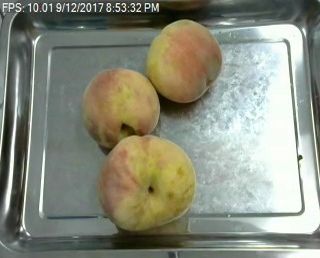Peach: (100, 135, 196, 231), (146, 18, 223, 103), (80, 67, 160, 148)
